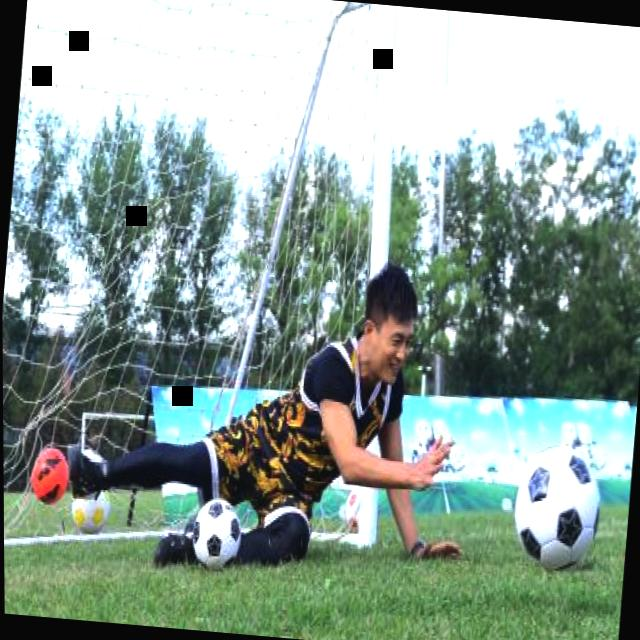Fall-Detected: (21, 210, 491, 598)
